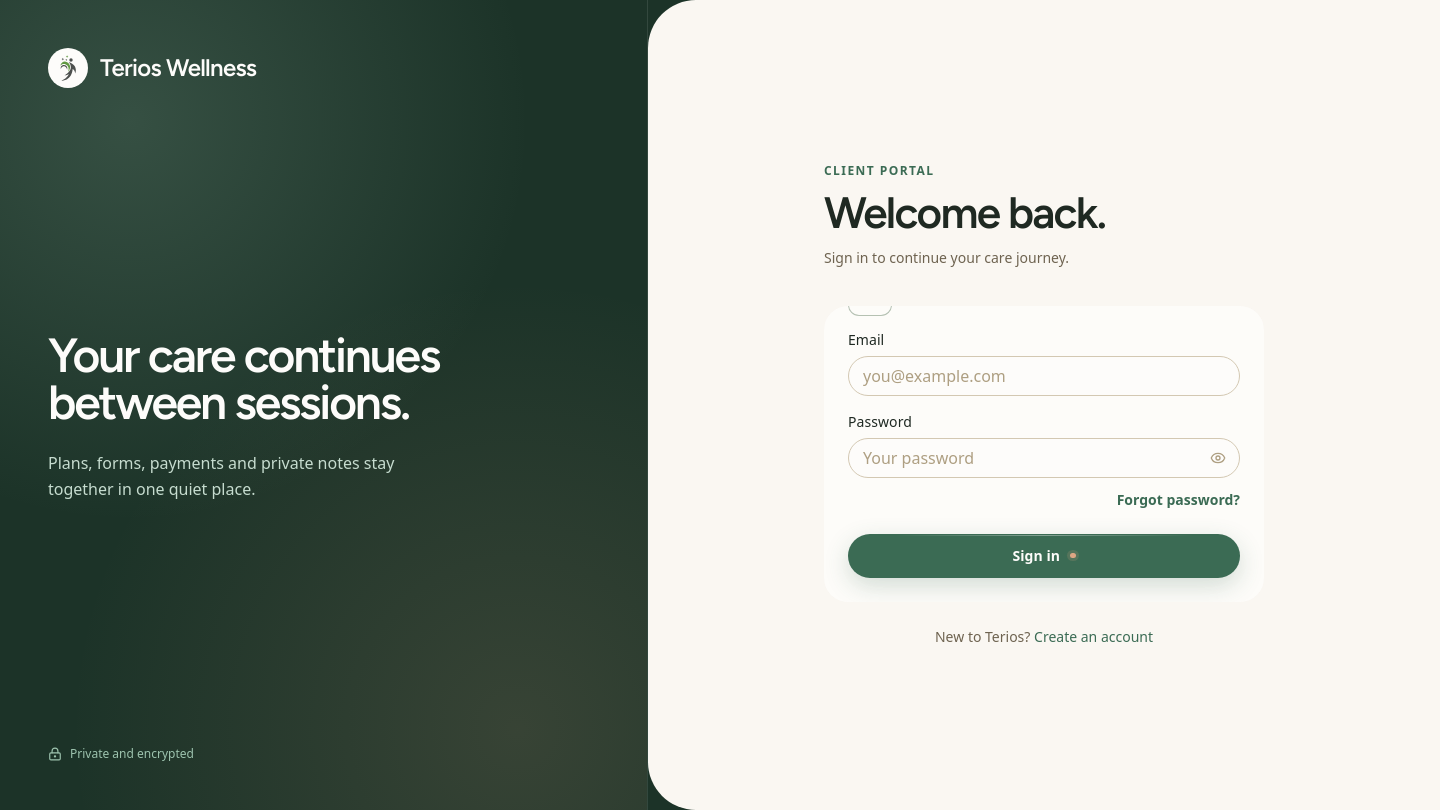
Test: LoginPage › surfaces a network error with what-to-do-next copy
This screenshot has width=1440, height=810.
Type "a@b.com" into the field labelled "Email" at (1044, 376), box [848, 356, 1240, 396]
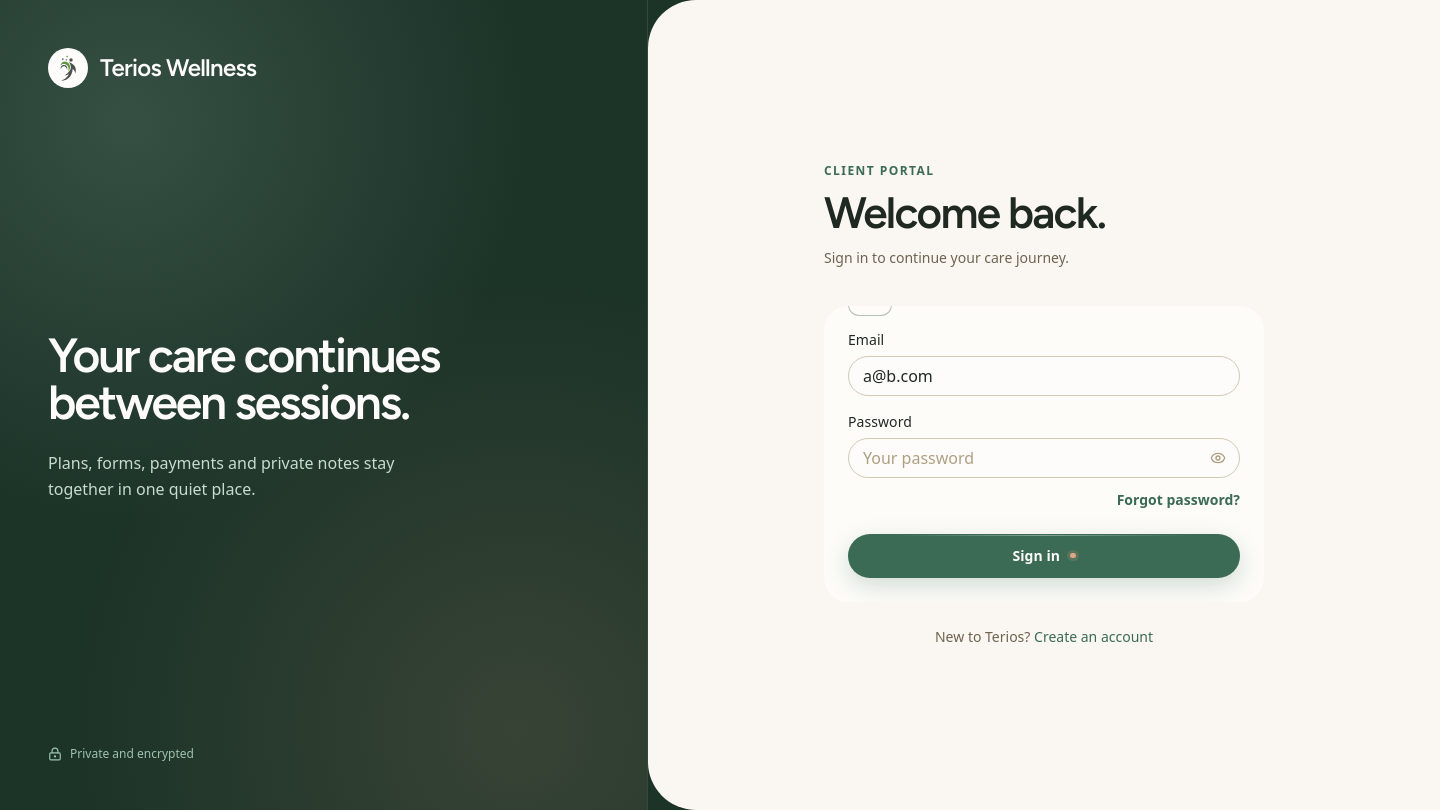
Type "secret" into the password field labelled "Password" at (1044, 458), box [848, 438, 1240, 478]
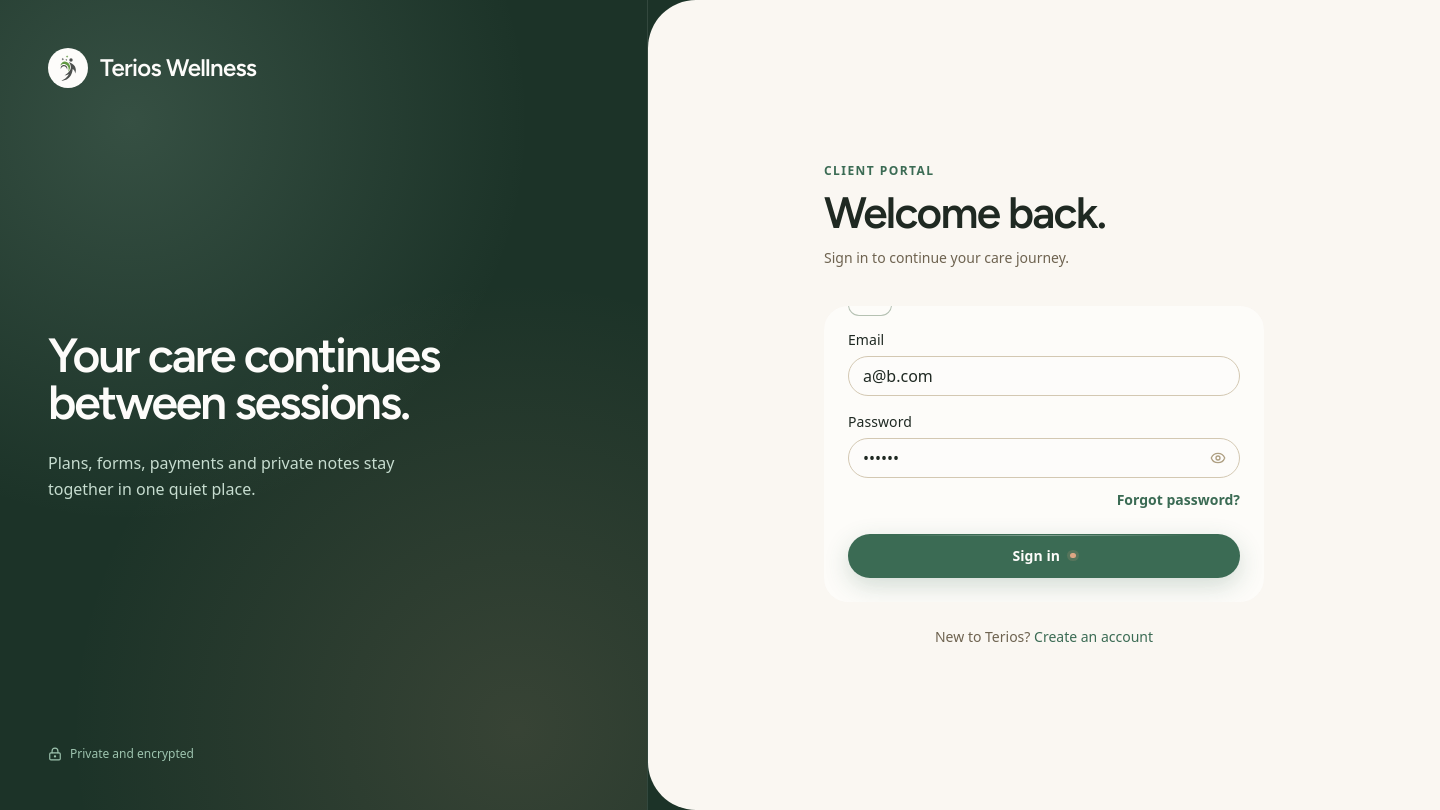
Submit the form "Sign in", box [848, 330, 1240, 578]
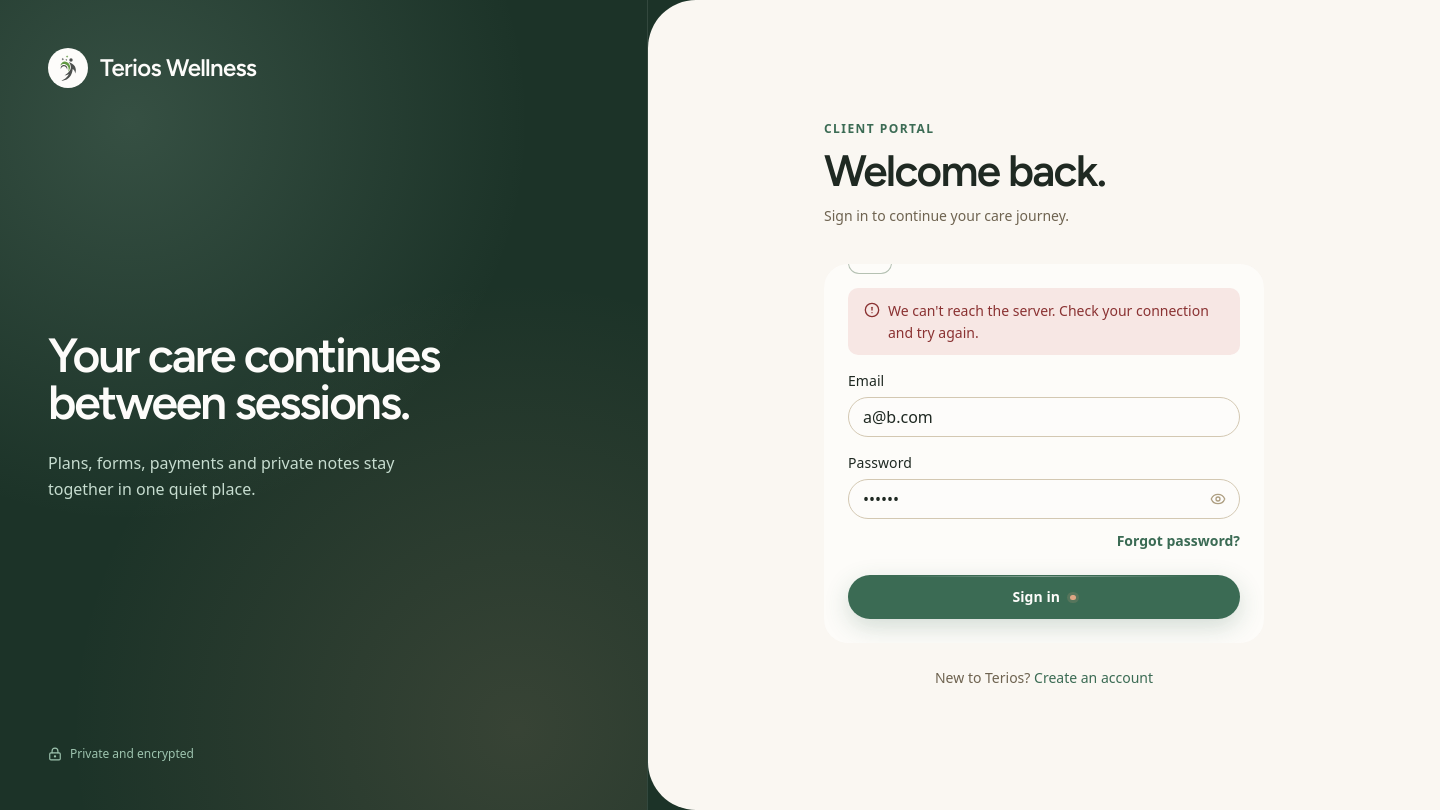
Check: the message reads "We can't reach the server. Check your connection and try again.", box [888, 301, 1209, 342]
